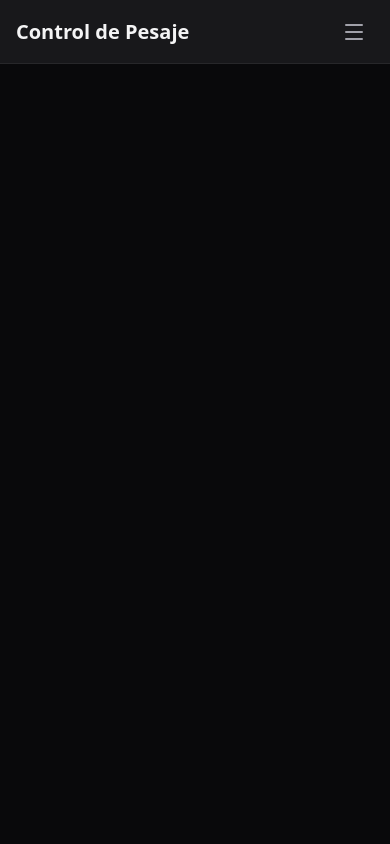
DashboardLayout — sidebar ocultable › mantiene el drawer móvil independiente del sidebar de escritorio
Earlier steps of the test are not shown.
Click the button named "abrir menú" at (354, 32), box [334,12,374,52]
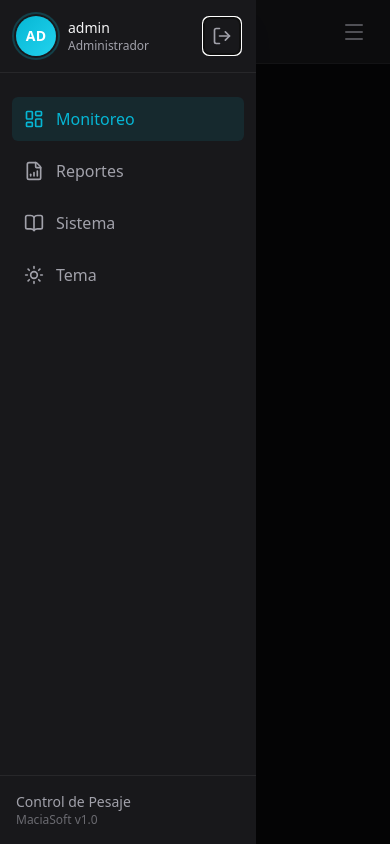
Check: the dialog is shown
